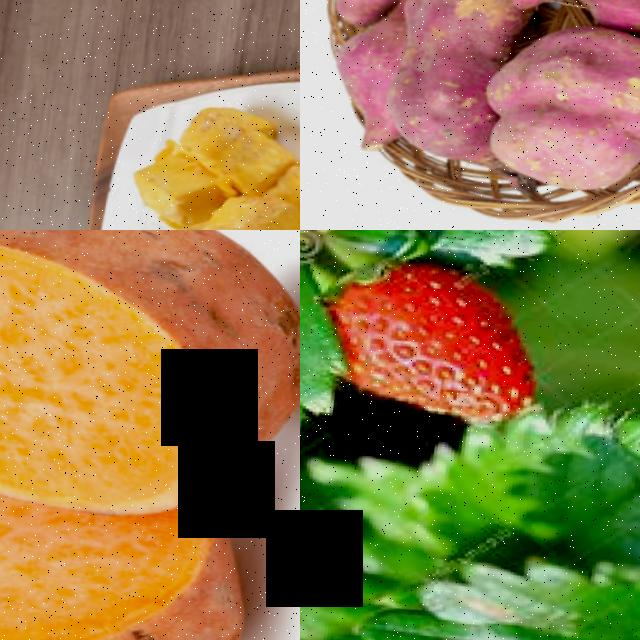strawberry: (336, 253, 542, 424)
sweet potato: (0, 230, 300, 540), (0, 460, 261, 640), (468, 17, 640, 212), (379, 0, 506, 165)
tofu: (180, 100, 278, 158), (124, 163, 206, 230), (196, 190, 300, 230), (276, 166, 300, 208)
